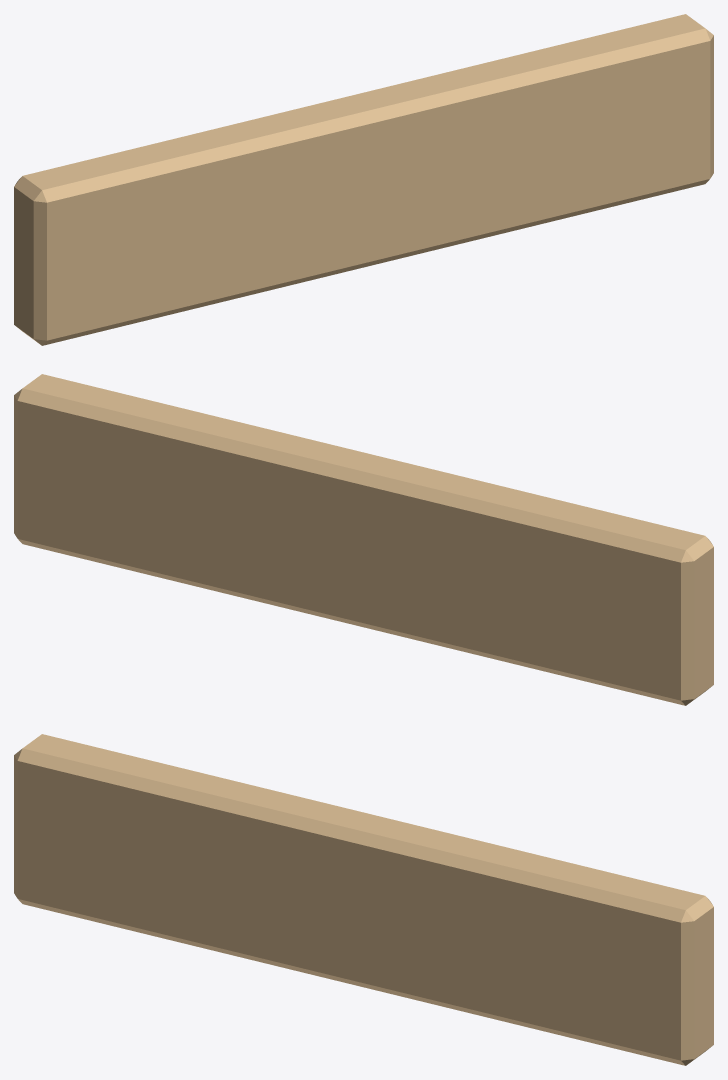
Rendered from plank.fbx.
3 views of the same model, one above another, from view 1: azimuth 30°, elevation 25°; view 2: azimuth 150°, elevation 25°; view 3: azimuth 330°, elevation 25° (orthographic).
Visible parts, largest first — view 1: Plank; view 2: Plank; view 3: Plank.
Boxes of the visible parts, <box> form: Plank: <box>14,14,713,345</box>; Plank: <box>14,374,713,705</box>; Plank: <box>14,734,713,1065</box>.
Size of the model in its own units: 160 by 35 by 12.
